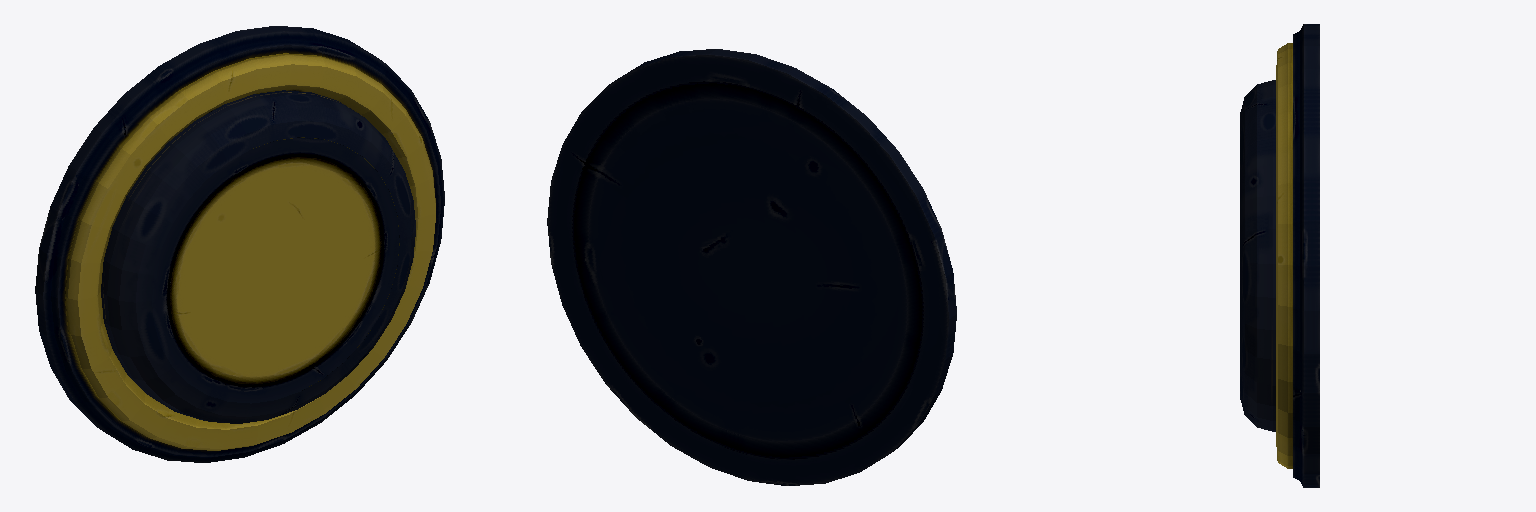
The picture shows the model from 3 angles: view 1: azimuth 30°, elevation 25°; view 2: azimuth 150°, elevation 25°; view 3: azimuth 270°, elevation 25°; orthographic projection.
Parts seen in each view (by area): view 1: Object.2, Object.1; view 2: Object.1; view 3: Object.1, Object.2.
Boxes of the visible parts, <box> form: Object.2: <box>101,90,415,423</box>; Object.1: <box>35,26,444,462</box>; Object.1: <box>547,49,956,485</box>; Object.1: <box>1276,24,1319,487</box>; Object.2: <box>1240,80,1275,431</box>.
Bounding box in the file's own units: 217793 × 217793 × 37263.
Materials: 3 (2 with a texture image).